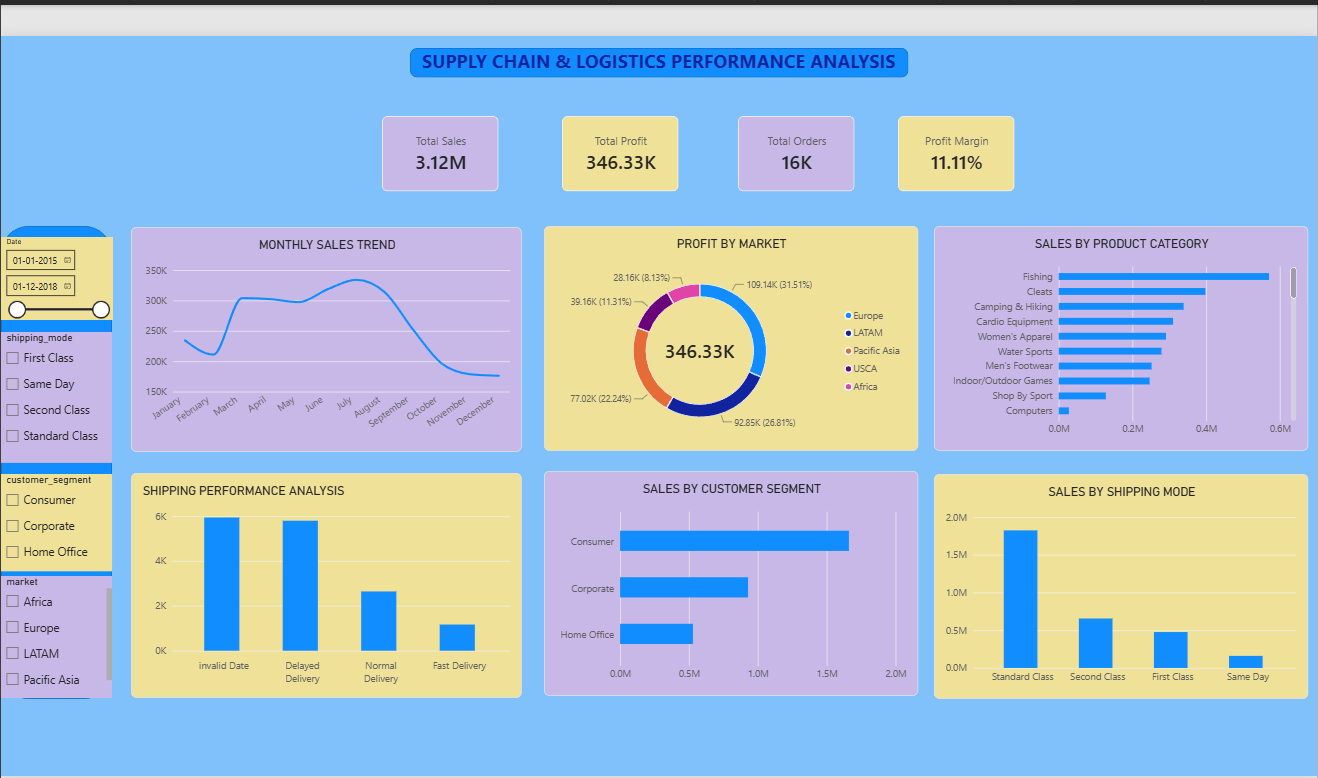

What the dashboard file says about the page in this screenshot:
{"tool":"powerbi","page":{"name":"Excutive Overview ","canvas":[1920,1080],"ordinal":0},"visuals":[{"type":"shape","box":[0,277.2,161.9,690.1],"z":0},{"type":"shape","box":[596.6,17.5,727.2,43.1],"z":1000},{"type":"textbox","box":[509,17.5,900.9,43.1],"z":2000},{"type":"cardVisual","fields":{"Data":["incom2024_delay_example_dataset.Total Sales"]},"box":[555.9,116.7,170.7,110.9],"z":3000},{"type":"cardVisual","fields":{"Data":["incom2024_delay_example_dataset.Total Profit"]},"box":[818.5,116.7,170.7,110.9],"z":4000},{"type":"cardVisual","fields":{"Data":["incom2024_delay_example_dataset.Total Orders"]},"box":[1075.3,116.7,170.7,110.9],"z":5000},{"type":"cardVisual","fields":{"Data":["incom2024_delay_example_dataset.Profit Margin"]},"box":[1308.7,116.7,170.7,110.9],"z":6000},{"type":"lineChart","title":"MONTHLY SALES TREND","fields":{"Category":["Date Table.Month"],"Y":["incom2024_delay_example_dataset.Total Sales"]},"box":[189.7,278.7,570.5,328.3],"z":7000},{"type":"clusteredBarChart","title":"SALES BY PRODUCT CATEGORY","fields":{"Category":["incom2024_delay_example_dataset.category_name"],"Y":["incom2024_delay_example_dataset.Total Sales"]},"box":[1361.2,277.2,545.7,328.3],"z":8000},{"type":"donutChart","title":"PROFIT BY MARKET","fields":{"Category":["incom2024_delay_example_dataset.market"],"Y":["incom2024_delay_example_dataset.Total Profit"]},"box":[792.2,277.2,545.7,328.3],"z":9000},{"type":"clusteredColumnChart","title":"SHIPPING PERFORMANCE ANALYSIS","fields":{"Category":["incom2024_delay_example_dataset.Shipping Performance"],"Y":["incom2024_delay_example_dataset.Order Count"]},"box":[189.7,637.6,570.5,328.3],"z":10000},{"type":"clusteredBarChart","title":"SALES BY CUSTOMER SEGMENT","fields":{"Category":["incom2024_delay_example_dataset.customer_segment"],"Y":["incom2024_delay_example_dataset.Total Sales"]},"box":[792.2,634.7,546,328],"z":11000},{"type":"clusteredColumnChart","title":"SALES BY SHIPPING MODE","fields":{"Category":["incom2024_delay_example_dataset.shipping_mode"],"Y":["incom2024_delay_example_dataset.Total Sales"]},"box":[1361.2,639,546,328],"z":12000},{"type":"slicer","title":"DATE","fields":{"Values":["Date Table.Date"]},"box":[0,293.3,161.9,119.6],"z":13000},{"type":"slicer","fields":{"Values":["incom2024_delay_example_dataset.market"]},"box":[0,787.8,161.9,178],"z":14000},{"type":"slicer","fields":{"Values":["incom2024_delay_example_dataset.customer_segment"]},"box":[0,639,161.9,141.5],"z":15000},{"type":"slicer","fields":{"Values":["incom2024_delay_example_dataset.shipping_mode"]},"box":[0,431.9,161.9,191.1],"z":16000}]}

Visuals, with their boxes on the page's 1920x1080 design canvas (x1, y1, x2, y2). These are canvas units, not pixel positions in the 1318x778 screenshot, which may show the page scaled, cropped or inside an application window:
shape: detection(0, 277, 162, 967)
shape: detection(597, 18, 1324, 61)
textbox: detection(509, 18, 1410, 61)
cardVisual - incom2024_delay_example_dataset.Total Sales: detection(556, 117, 727, 228)
cardVisual - incom2024_delay_example_dataset.Total Profit: detection(818, 117, 989, 228)
cardVisual - incom2024_delay_example_dataset.Total Orders: detection(1075, 117, 1246, 228)
cardVisual - incom2024_delay_example_dataset.Profit Margin: detection(1309, 117, 1479, 228)
"MONTHLY SALES TREND" lineChart: detection(190, 279, 760, 607)
"SALES BY PRODUCT CATEGORY" clusteredBarChart: detection(1361, 277, 1907, 606)
"PROFIT BY MARKET" donutChart: detection(792, 277, 1338, 606)
"SHIPPING PERFORMANCE ANALYSIS" clusteredColumnChart: detection(190, 638, 760, 966)
"SALES BY CUSTOMER SEGMENT" clusteredBarChart: detection(792, 635, 1338, 963)
"SALES BY SHIPPING MODE" clusteredColumnChart: detection(1361, 639, 1907, 967)
"DATE" slicer: detection(0, 293, 162, 413)
slicer - incom2024_delay_example_dataset.market: detection(0, 788, 162, 966)
slicer - incom2024_delay_example_dataset.customer_segment: detection(0, 639, 162, 780)
slicer - incom2024_delay_example_dataset.shipping_mode: detection(0, 432, 162, 623)
